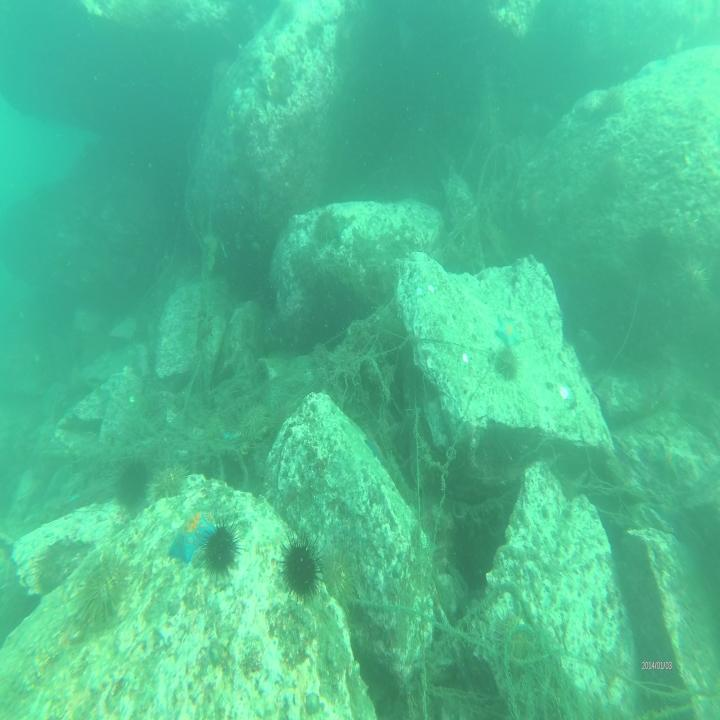echinus: (77, 559, 132, 634), (282, 538, 320, 597), (206, 518, 238, 577), (117, 460, 149, 506), (154, 462, 184, 502), (314, 206, 340, 247), (497, 346, 519, 387)
starfish: (172, 512, 212, 566), (496, 311, 520, 351)
